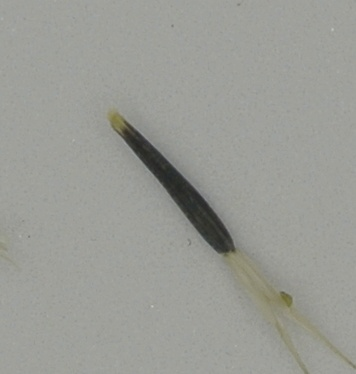เมล็ดดีเรียวยาว: (107, 106, 343, 365)
